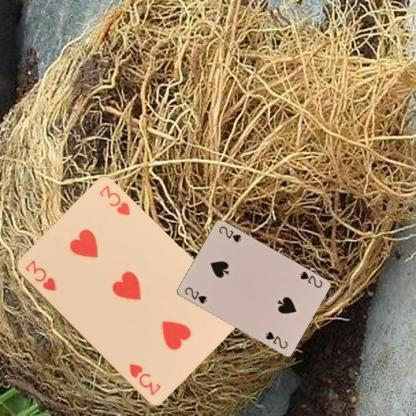2s: (297, 268, 324, 289), (182, 284, 208, 305)
3h: (22, 257, 57, 293)
